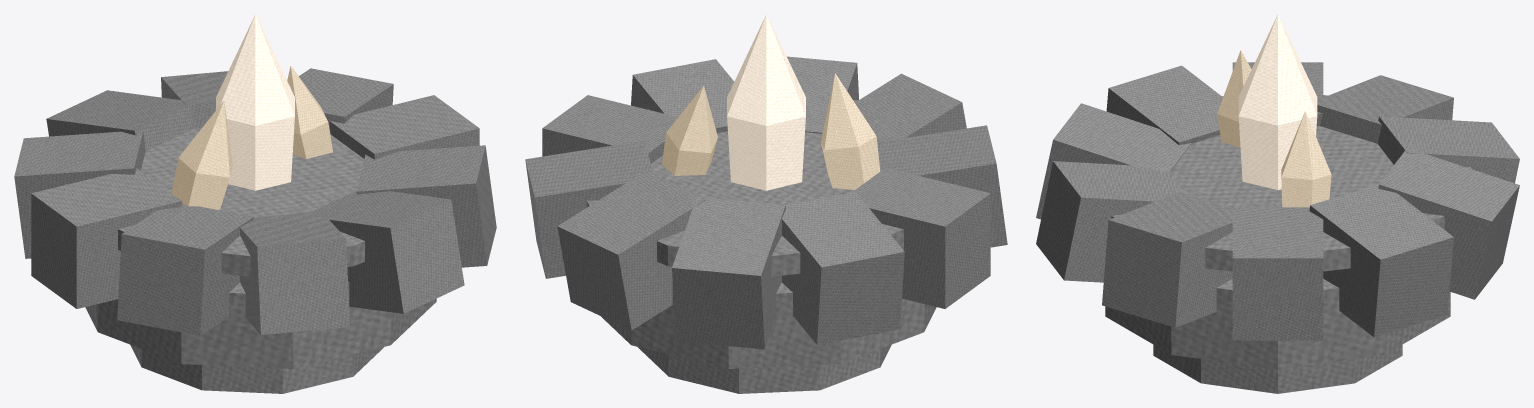
File: decor-geode-bowl.glb
3 renders of one model, left to right at view 1: azimuth 30°, elevation 25°; view 2: azimuth 150°, elevation 25°; view 3: azimuth 270°, elevation 25°, orthographic.
Parts seen in each view (by area): view 1: rim-stone-4, rim-stone-2, rim-stone-5, bowl-base, rim-stone-3, cluster-center, iron-rim, rim-stone-1, rim-stone-6, rim-stone-0, foot, rim-stone-7 (+4 smaller); view 2: rim-stone-6, rim-stone-7, rim-stone-8, rim-stone-5, cluster-center, bowl-base, rim-stone-9, iron-rim, rim-stone-4, rim-stone-0, foot, rim-stone-3 (+4 smaller); view 3: rim-stone-9, rim-stone-1, rim-stone-0, bowl-base, rim-stone-8, rim-stone-2, iron-rim, cluster-center, rim-stone-3, rim-stone-4, rim-stone-7, foot (+4 smaller).
Boxes of the visible parts, left/top/right/bottom form: rim-stone-4: left=117, top=203, right=253, bottom=335; rim-stone-2: left=310, top=190, right=464, bottom=313; rim-stone-5: left=31, top=168, right=181, bottom=308; bowl-base: left=85, top=281, right=436, bottom=368; rim-stone-3: left=240, top=212, right=349, bottom=334; cluster-center: left=216, top=14, right=294, bottom=190; iron-rim: left=65, top=109, right=373, bottom=276; rim-stone-1: left=356, top=145, right=496, bottom=267; rim-stone-6: left=14, top=131, right=145, bottom=258; rim-stone-0: left=329, top=95, right=479, bottom=159; foot: left=130, top=345, right=383, bottom=393; rim-stone-7: left=46, top=90, right=195, bottom=150; rim-stone-6: left=782, top=192, right=904, bottom=344; rim-stone-7: left=672, top=197, right=785, bottom=349; rim-stone-8: left=557, top=171, right=706, bottom=330; rim-stone-5: left=852, top=167, right=990, bottom=308; cluster-center: left=727, top=14, right=805, bottom=190; bowl-base: left=601, top=282, right=936, bottom=368; rim-stone-9: left=525, top=140, right=653, bottom=278; iron-rim: left=586, top=100, right=956, bottom=276; rim-stone-4: left=877, top=125, right=1007, bottom=247; rim-stone-0: left=542, top=95, right=678, bottom=163; foot: left=638, top=345, right=891, bottom=393; rim-stone-3: left=821, top=73, right=966, bottom=142; rim-stone-9: left=1309, top=184, right=1453, bottom=337; rim-stone-1: left=1102, top=192, right=1232, bottom=327; rim-stone-0: left=1232, top=207, right=1323, bottom=340; bowl-base: left=1105, top=279, right=1450, bottom=369; rim-stone-8: left=1378, top=148, right=1519, bottom=299; rim-stone-2: left=1036, top=161, right=1186, bottom=282; iron-rim: left=1111, top=95, right=1471, bottom=271; cluster-center: left=1238, top=14, right=1317, bottom=189; rim-stone-3: left=1036, top=103, right=1191, bottom=219; rim-stone-4: left=1106, top=65, right=1222, bottom=145; rim-stone-7: left=1377, top=116, right=1519, bottom=183; foot: left=1153, top=344, right=1402, bottom=393.
Bounding box in the file's own units: 0.92 × 0.7104 × 0.96.
Materials: 5 (5 with a texture image).
